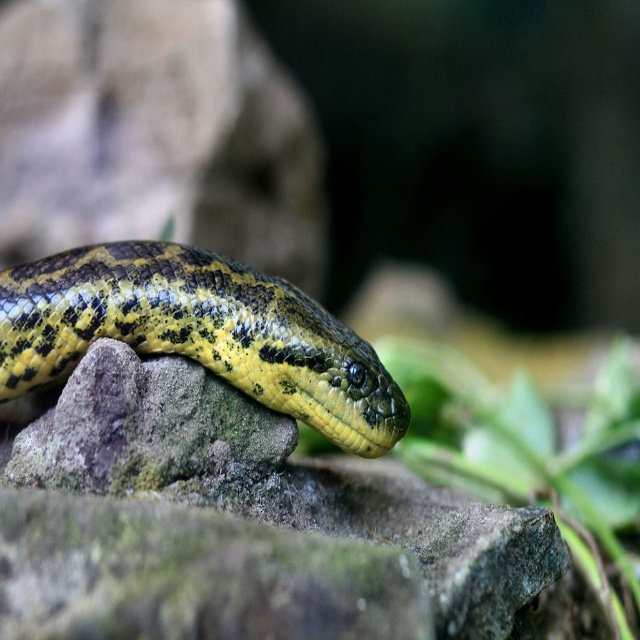Lizard: (0, 239, 411, 459)
